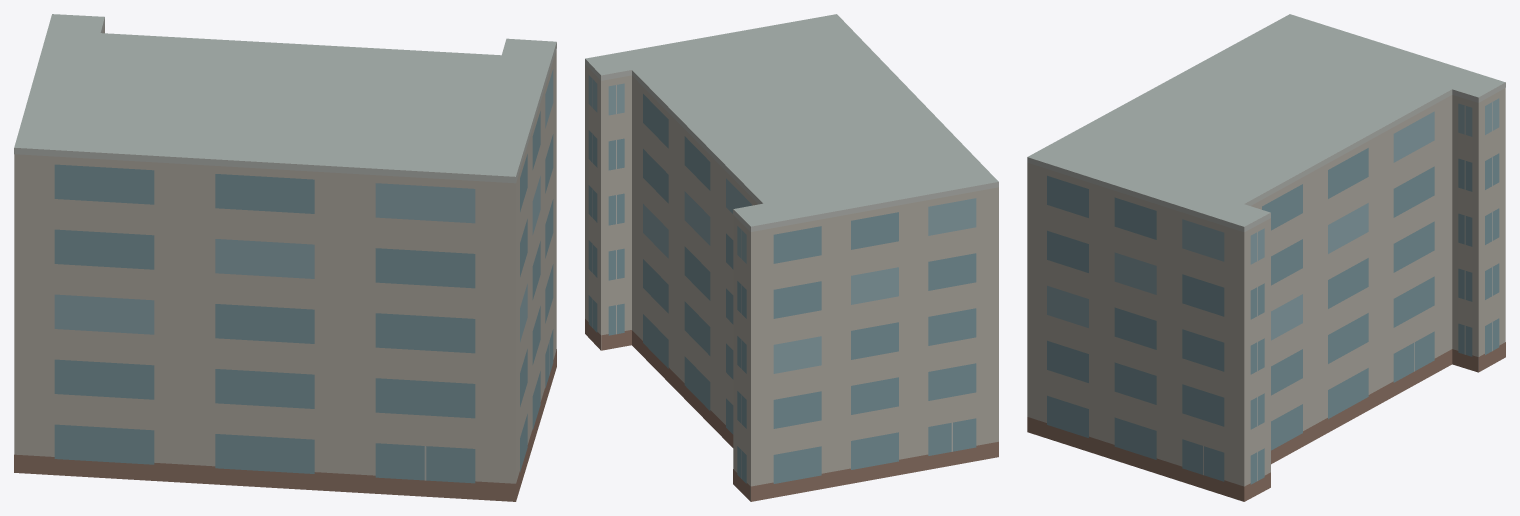
The model's file is survey-upis-32542506.glb.
The picture shows the model from 3 angles, left to right: view 1: azimuth 30°, elevation 25°; view 2: azimuth 150°, elevation 25°; view 3: azimuth 270°, elevation 25°; orthographic projection. The views are drawn at different scales.
Visible parts, largest first — view 1: survey-upis-32542506.tmp; view 2: survey-upis-32542506.tmp; view 3: survey-upis-32542506.tmp.
Boxes of the visible parts, left/top/right/bottom form: survey-upis-32542506.tmp: left=14, top=14, right=556, bottom=501; survey-upis-32542506.tmp: left=585, top=14, right=998, bottom=501; survey-upis-32542506.tmp: left=1027, top=14, right=1505, bottom=501.
Size of the model in its own units: 20.43 by 12.3 by 19.4.
